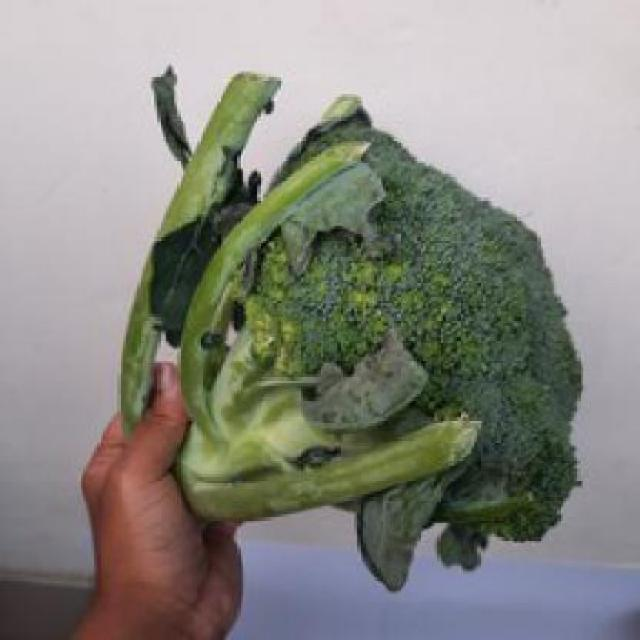broccoli: (106, 102, 552, 558)
